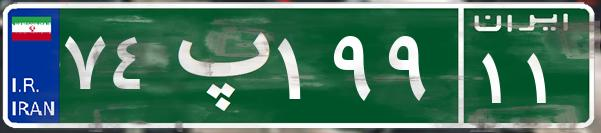1: (273, 28, 330, 110), (475, 38, 525, 113), (525, 38, 570, 115)
4: (110, 28, 158, 105)
7: (57, 26, 110, 107)
9: (385, 28, 445, 110), (330, 28, 385, 110)
پ: (158, 15, 273, 115)
